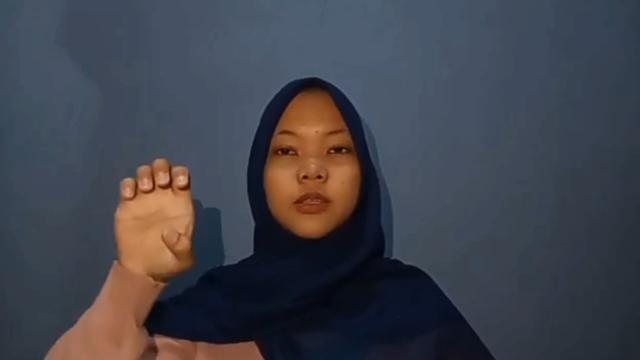E: (112, 156, 192, 278)
